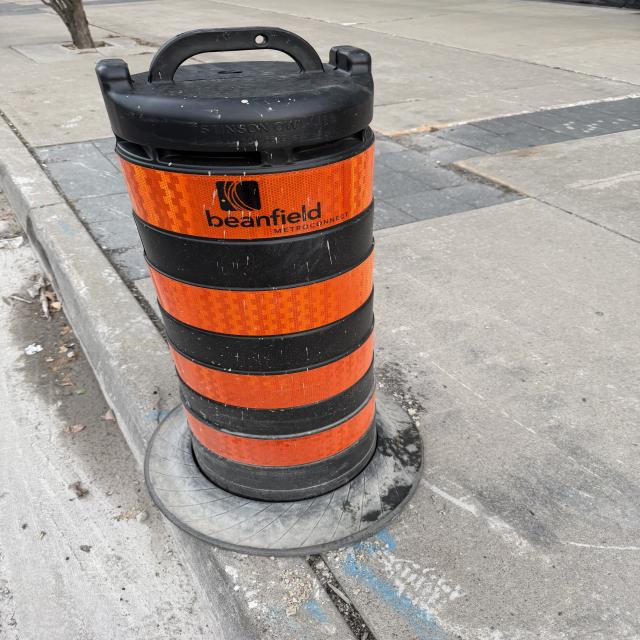Teraffic Barrel: (97, 27, 419, 532)
